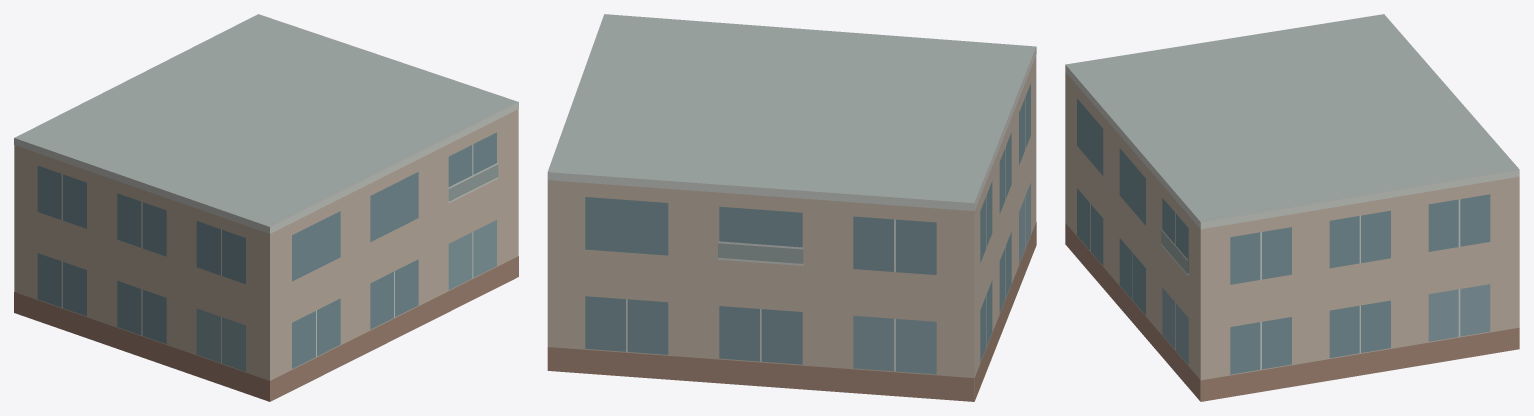
The model's file is survey-upis-32859775.glb.
3 renders of one model, left to right at view 1: azimuth 30°, elevation 25°; view 2: azimuth 150°, elevation 25°; view 3: azimuth 270°, elevation 25°, orthographic. The views are drawn at different scales.
Parts seen in each view (by area): view 1: survey-upis-32859775.tmp; view 2: survey-upis-32859775.tmp; view 3: survey-upis-32859775.tmp.
Boxes of the visible parts, x1,y1,x2,y2 form: survey-upis-32859775.tmp: (14,14,518,401); survey-upis-32859775.tmp: (547,14,1036,401); survey-upis-32859775.tmp: (1065,14,1519,401).
Size of the model in its own units: 15.17 by 6.1 by 13.99.
